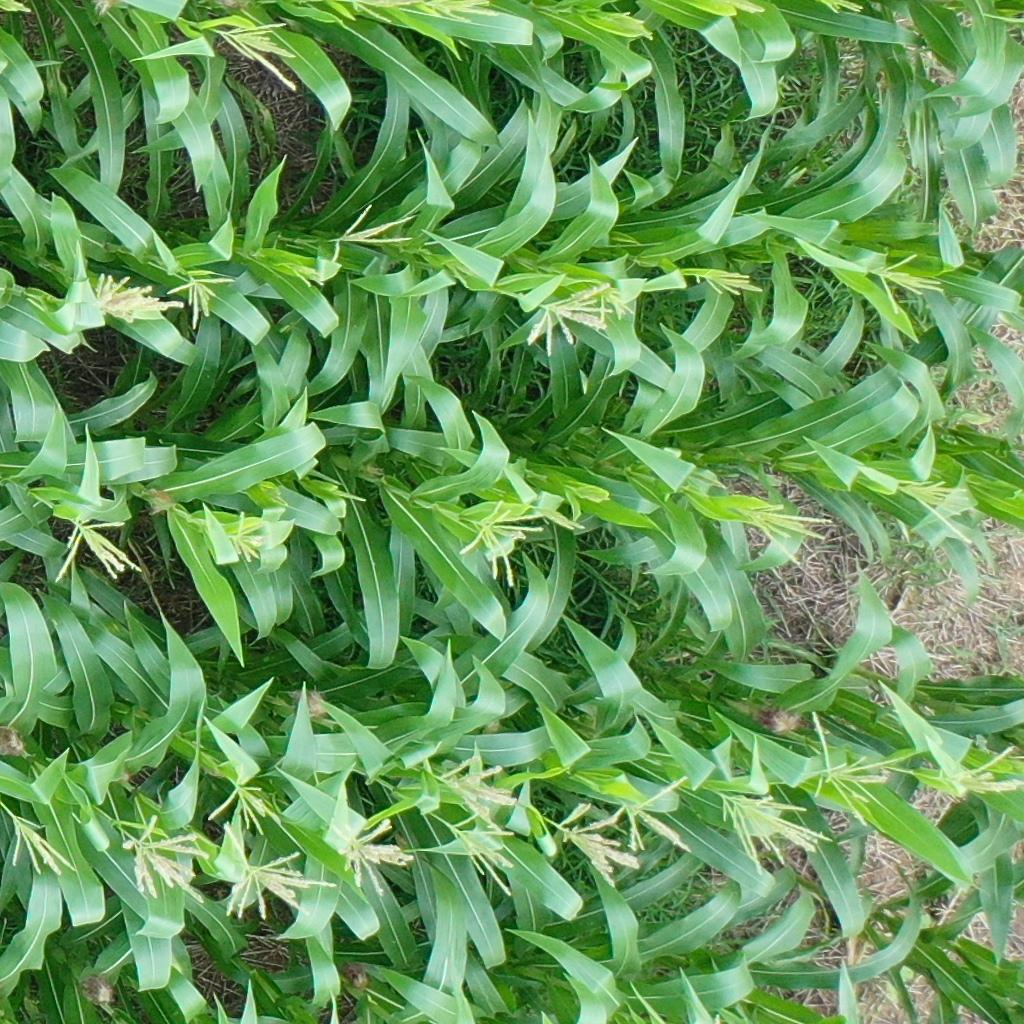Tassel: (797, 708, 904, 833), (210, 821, 333, 924), (714, 781, 832, 874), (114, 810, 210, 907), (732, 500, 834, 586), (557, 801, 648, 893), (916, 732, 1022, 807), (459, 498, 541, 592), (329, 809, 415, 898), (616, 769, 696, 859), (45, 513, 146, 584), (426, 748, 516, 822), (443, 814, 523, 897), (218, 16, 305, 92), (528, 281, 614, 354), (896, 475, 982, 546), (207, 755, 281, 837), (88, 270, 184, 327), (866, 249, 946, 317), (5, 807, 79, 880), (164, 268, 236, 332), (331, 204, 418, 246), (689, 261, 765, 301), (222, 513, 273, 564), (345, 1, 418, 33), (590, 5, 654, 41), (416, 1, 504, 27), (589, 279, 637, 321), (273, 255, 327, 292), (536, 498, 585, 538), (710, 1, 772, 16), (821, 1, 866, 20)
